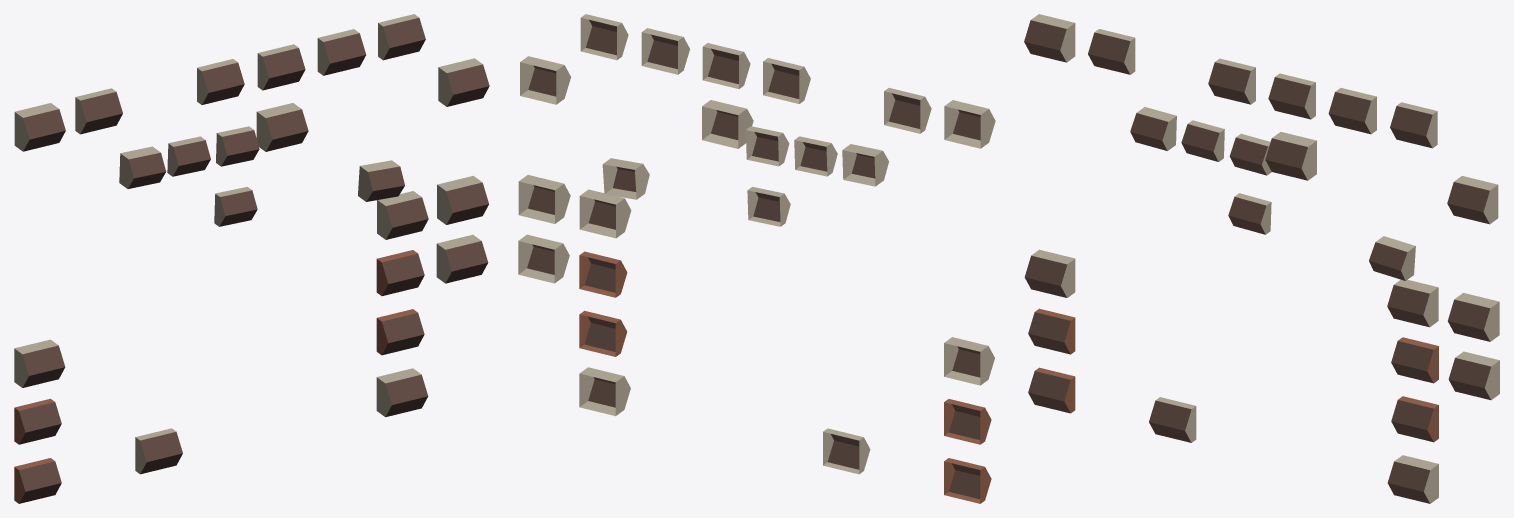
File: island_bldg_14_06.obj
The picture shows the model from 3 angles, left to right: view 1: azimuth 30°, elevation 25°; view 2: azimuth 150°, elevation 25°; view 3: azimuth 330°, elevation 25°; orthographic projection.
Parts seen in each view (by area): view 1: island_bldg_14_06; view 2: island_bldg_14_06; view 3: island_bldg_14_06.
Part boxes in pixels (x1,y1,x2,y2): island_bldg_14_06: (14,14,489,503); island_bldg_14_06: (518,14,995,503); island_bldg_14_06: (1024,14,1499,503).
Size of the model in its own units: 228 by 184 by 14.88.
